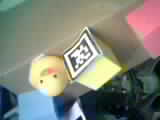duck: (23, 43, 68, 102)
